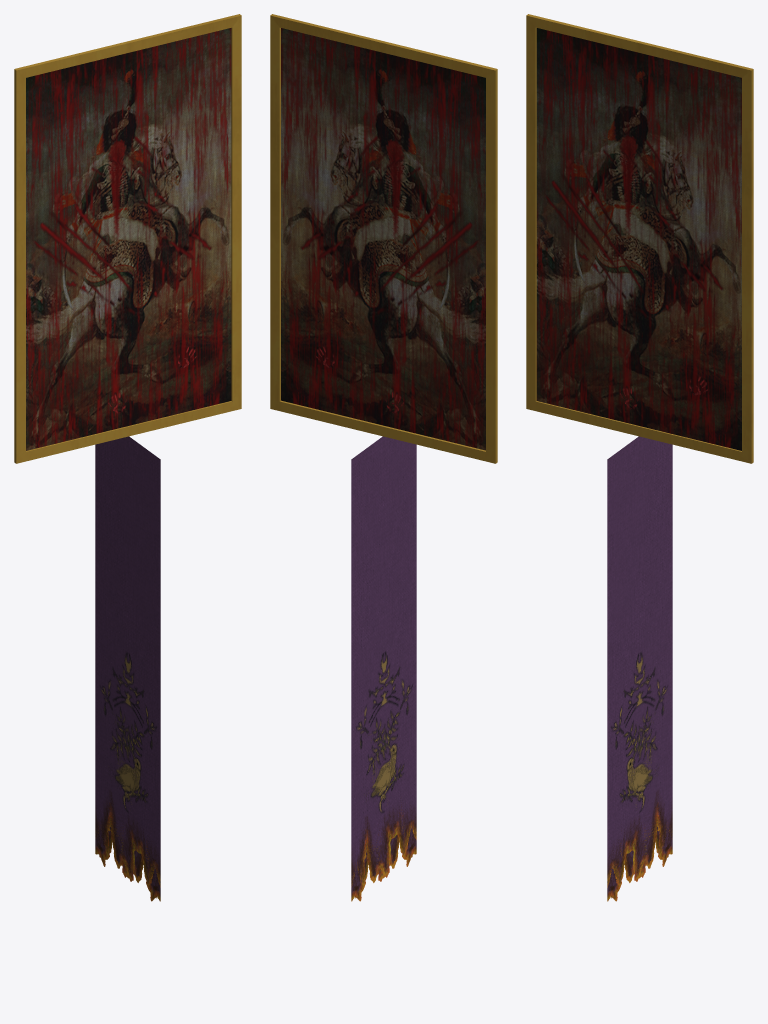
Rendered from PaintingAndBanner.fbx.
The picture shows the model from 3 angles, left to right: view 1: azimuth 30°, elevation 25°; view 2: azimuth 150°, elevation 25°; view 3: azimuth 330°, elevation 25°; orthographic projection.
Parts seen in each view (by area): view 1: LargePainting, Banner; view 2: LargePainting, Banner; view 3: LargePainting, Banner.
Boxes of the visible parts, left/top/right/bottom form: LargePainting: left=14, top=14, right=241, bottom=463; Banner: left=95, top=436, right=160, bottom=901; LargePainting: left=270, top=14, right=497, bottom=463; Banner: left=351, top=436, right=416, bottom=901; LargePainting: left=526, top=14, right=753, bottom=463; Banner: left=607, top=436, right=672, bottom=901.
Bounding box in the file's own units: 300 × 1200 × 150.
